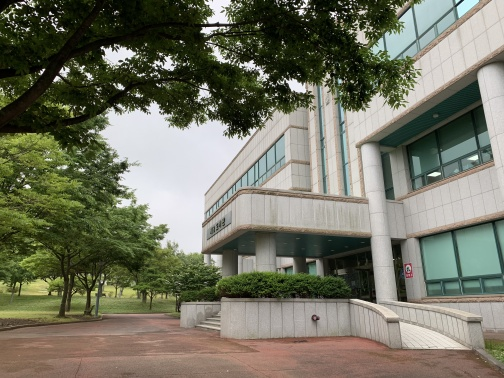Second Library: (190, 124, 492, 341)
